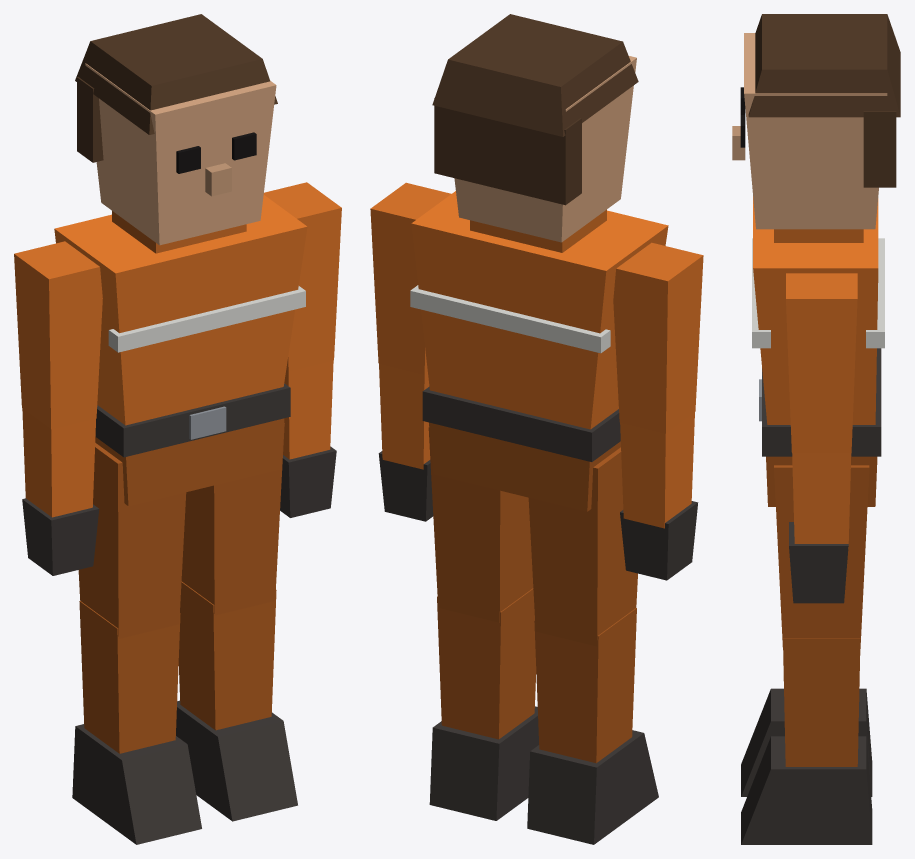
Rendered from character.obj.
3 views of the same model, side by side, from view 1: azimuth 30°, elevation 25°; view 2: azimuth 150°, elevation 25°; view 3: azimuth 270°, elevation 25° (orthographic). The views are drawn at different scales.
Size of the model in its own units: 0.58 by 1.41 by 0.2825.
